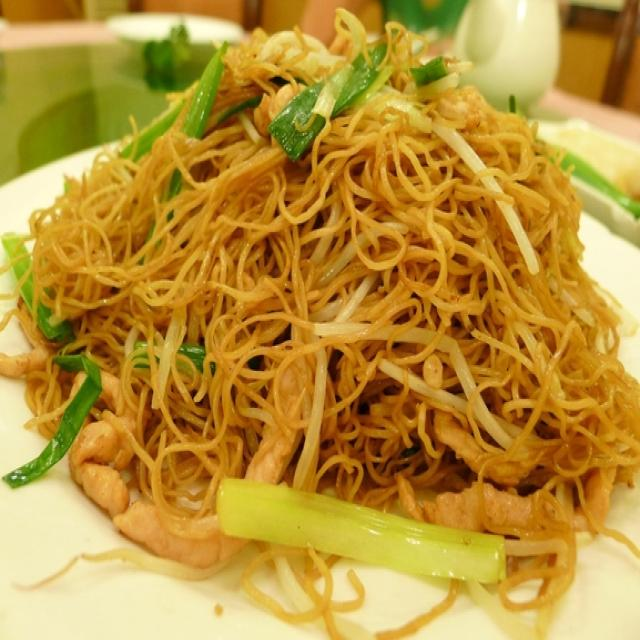面条主食: (18, 37, 618, 607)
